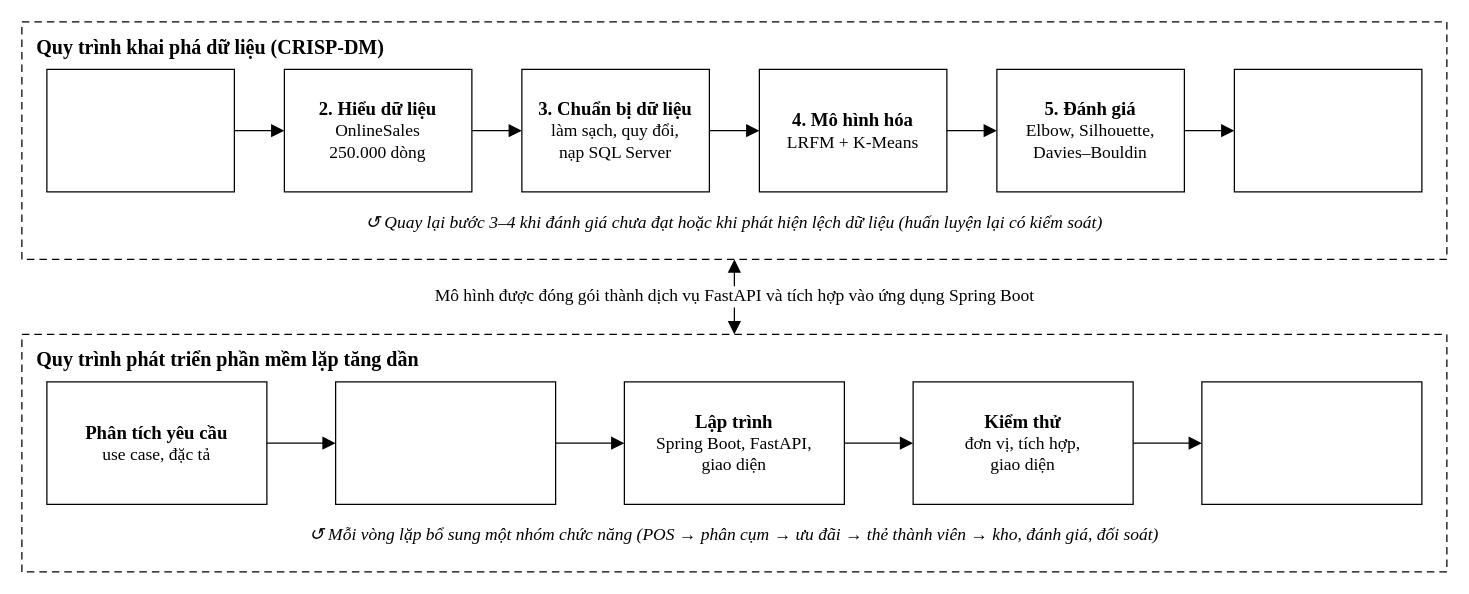
Some shapes in this 1469 by 594 pixel diagram are drawn without their labels. The shapes that lost their labels are listed below. From the top down, each one's centre as x and y in pixels, then its label:
At (x=140, y=130): "1. Hiểu nghiệp vụ bán lẻ mỹ phẩm, mục tiêu phân khúc".
At (x=1327, y=130): "6. Triển khai dịch vụ AI, POS, giám sát lệch".
At (x=445, y=442): "Thiết kế kiến trúc, CSDL SQL Server, API".
At (x=1311, y=442): "Bàn giao phiên bản chạy được".
